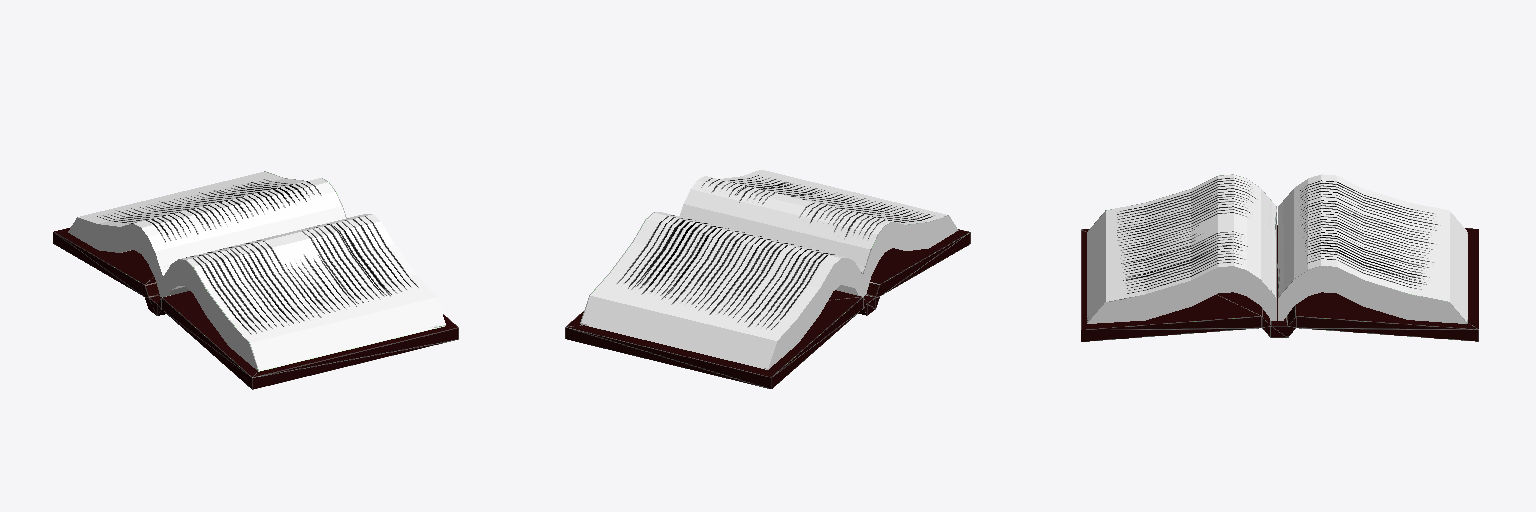
3 views of the same model, side by side, from view 1: azimuth 30°, elevation 25°; view 2: azimuth 150°, elevation 25°; view 3: azimuth 270°, elevation 25° (orthographic).
Parts seen in each view (by area): view 1: name3; view 2: name3; view 3: name3.
Part boxes in pixels (bbox=[...]): name3: bbox=[53, 171, 458, 389]; name3: bbox=[565, 170, 970, 388]; name3: bbox=[1081, 174, 1478, 341].
Size of the model in its own units: 0.7898 by 0.2619 by 1.32.
1 materials, 1 textured.